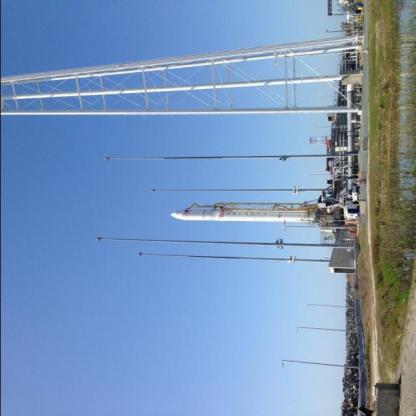MIL_TBM: (170, 208, 306, 223)
